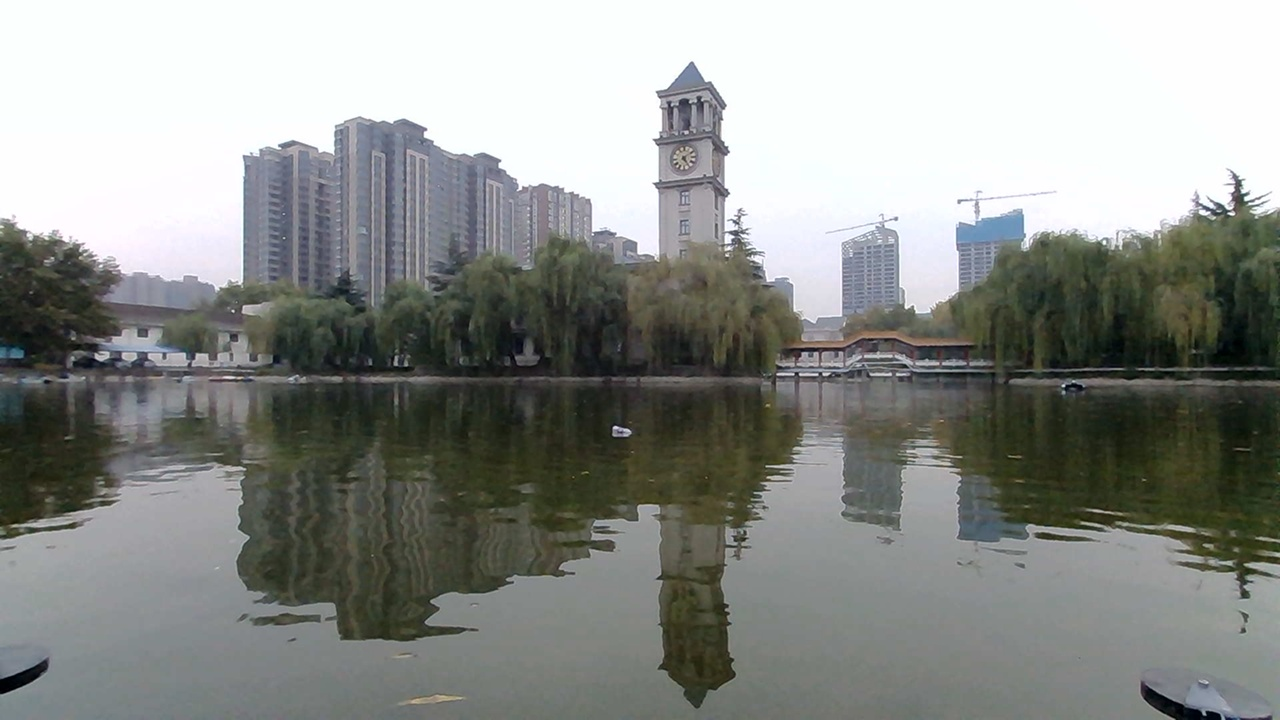bottle: (592, 412, 644, 450)
